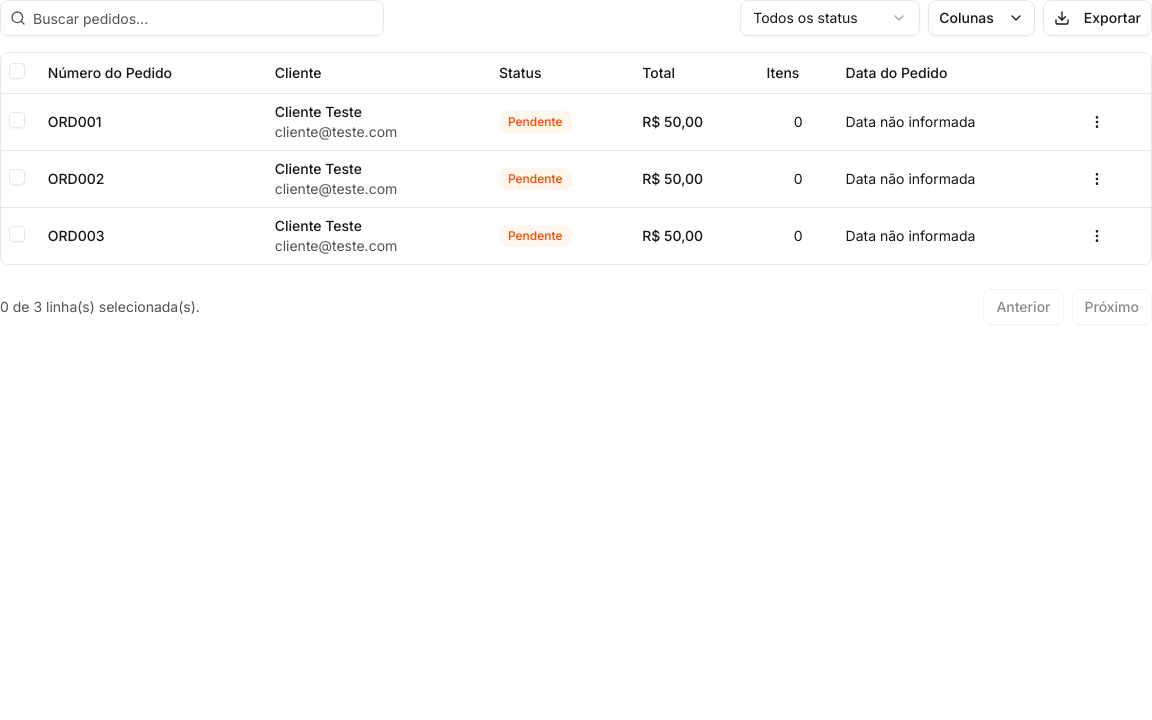
Scenario: Ações em Massa - DataTable › Exclusão em Massa › deve abrir modal de confirmação ao clicar em "Excluir Selecionados"
The image size is (1152, 720).
Selecionar pedidos
Click the checkbox named "Select row" next to "ORD001".
click(17, 120)  # box [9, 112, 25, 128]
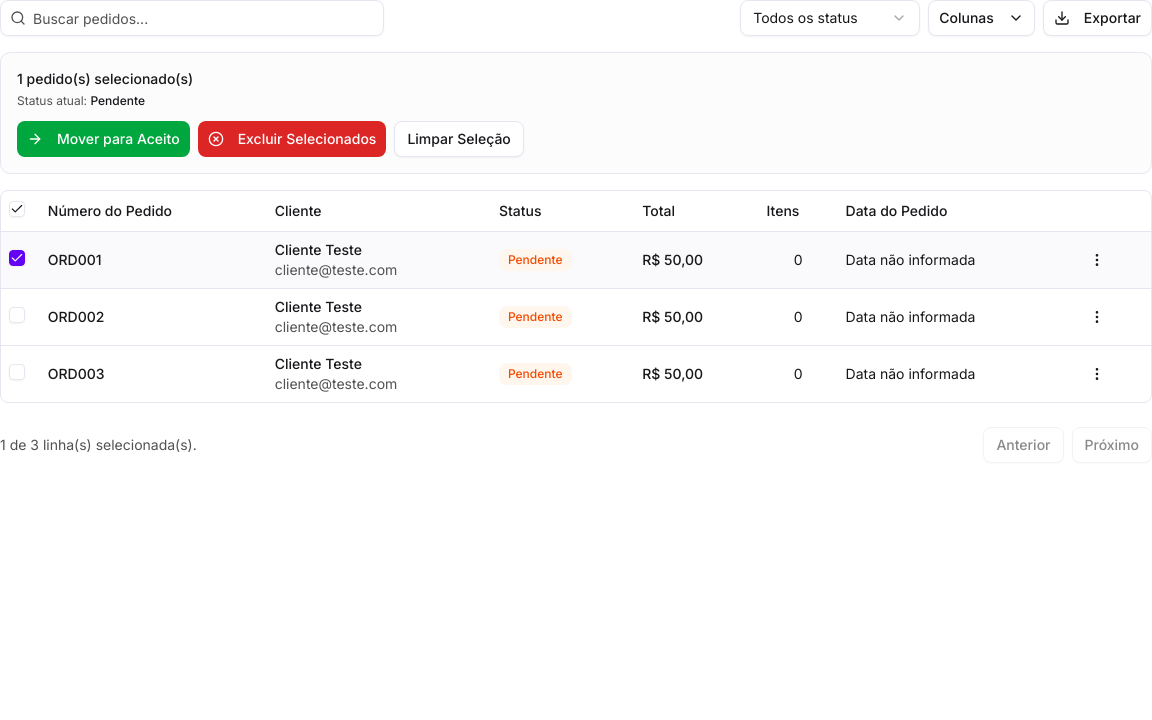
expect the button "Excluir Selecionados" is shown: met
Click the button "Excluir Selecionados".
click(292, 139)  # box [198, 121, 386, 157]
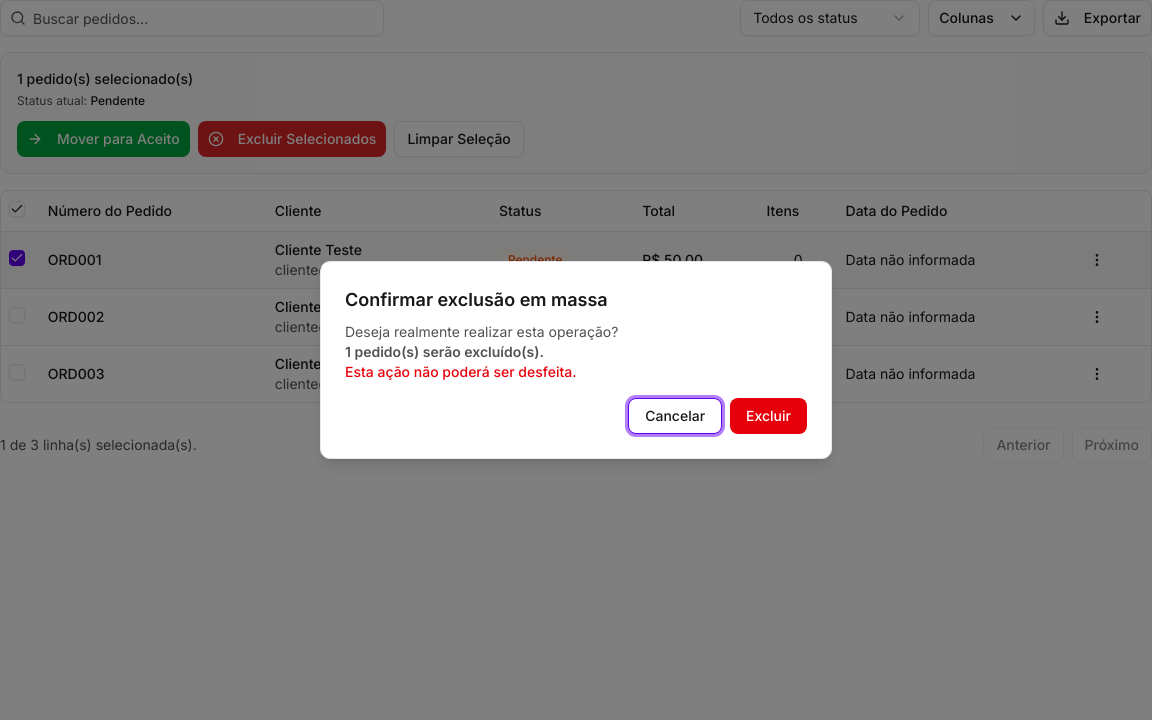
expect the heading "Confirmar exclusão em massa" is shown: met, box [345, 289, 608, 310]
expect the text "Deseja realmente realizar esta operação?" is shown: met, box [345, 323, 618, 340]
